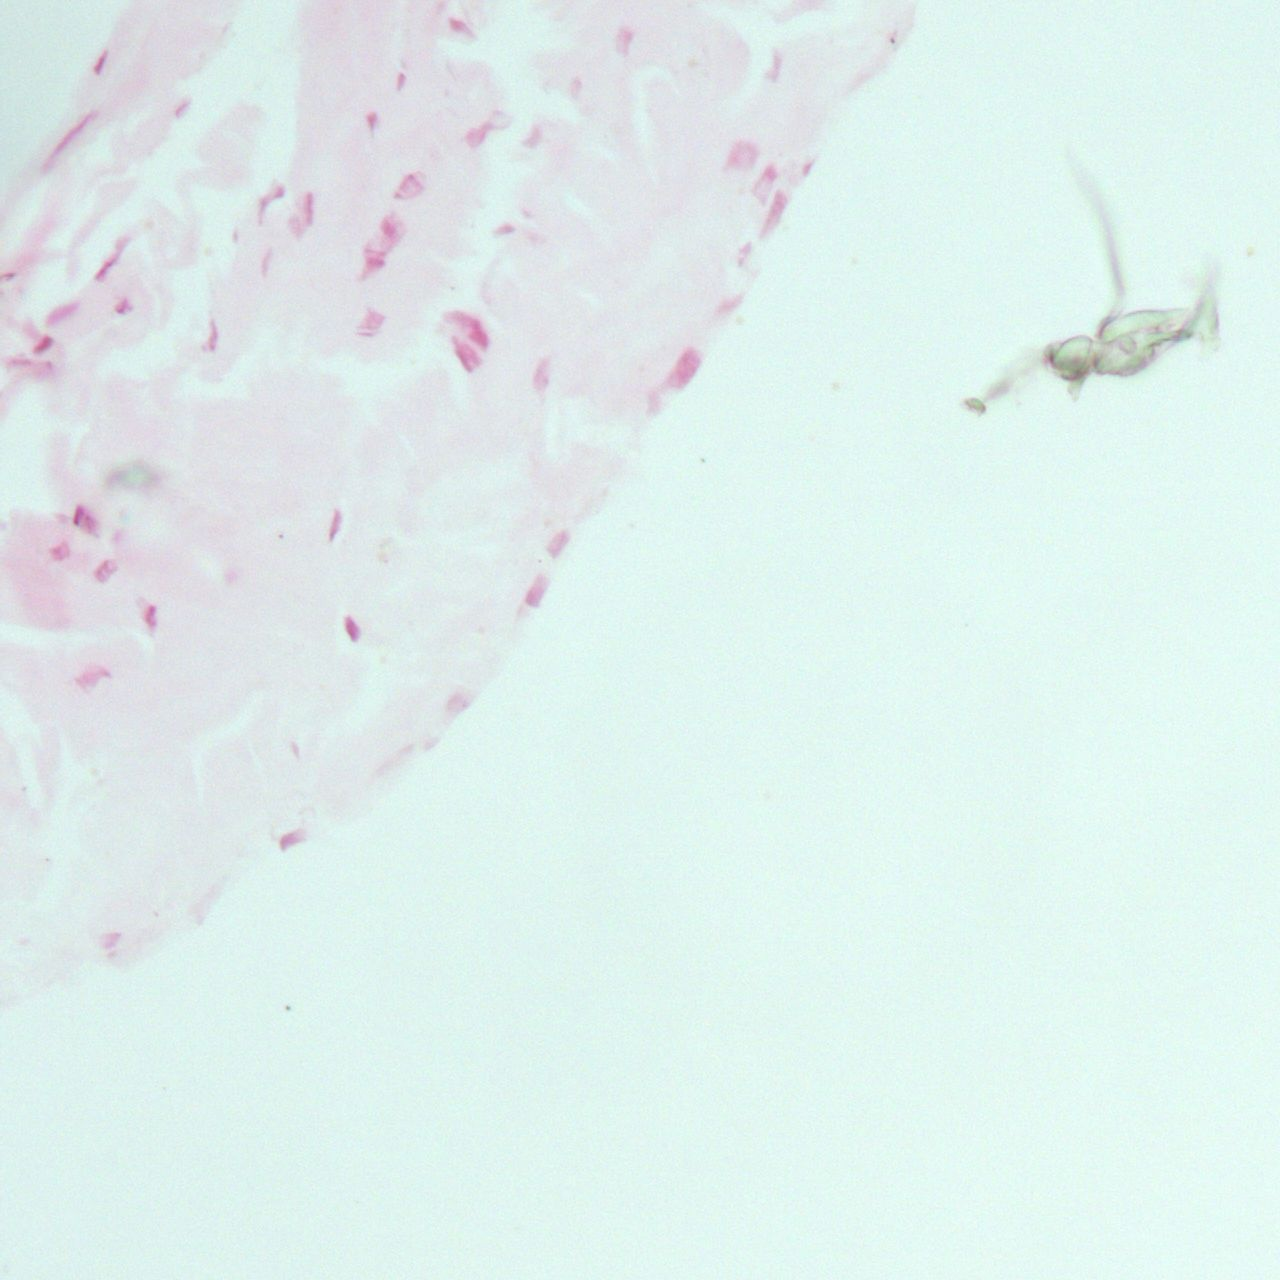dust: (105, 463, 163, 492), (282, 1005, 291, 1012), (275, 533, 284, 539), (890, 36, 896, 45), (699, 457, 706, 463)
nucleus-AC: (36, 110, 94, 172), (440, 304, 496, 352), (459, 104, 511, 152), (661, 343, 706, 396), (753, 188, 794, 241), (91, 232, 135, 282), (447, 327, 483, 373), (250, 179, 287, 220), (748, 162, 782, 204), (43, 293, 82, 329), (372, 213, 409, 248), (66, 501, 103, 535), (74, 660, 113, 693), (443, 13, 479, 47), (522, 572, 554, 610), (724, 139, 758, 172), (543, 525, 573, 561), (89, 554, 121, 586), (275, 825, 312, 852), (358, 308, 387, 340), (96, 924, 130, 948), (762, 52, 787, 86), (46, 538, 75, 566), (394, 171, 422, 200), (339, 613, 366, 644), (360, 245, 386, 277), (714, 293, 748, 316), (519, 122, 545, 152), (533, 355, 553, 394), (324, 509, 345, 545), (613, 26, 636, 55), (89, 47, 113, 75), (30, 332, 56, 356), (171, 95, 195, 121), (734, 238, 756, 265), (139, 600, 159, 629), (445, 692, 468, 716), (202, 318, 218, 350), (286, 216, 305, 238), (799, 157, 816, 179), (492, 222, 515, 237), (568, 77, 583, 101), (365, 113, 379, 136), (114, 298, 132, 315), (306, 191, 314, 229), (261, 248, 272, 275), (7, 355, 30, 367), (394, 72, 407, 91), (0, 268, 18, 281), (41, 359, 54, 374), (230, 230, 241, 244)
